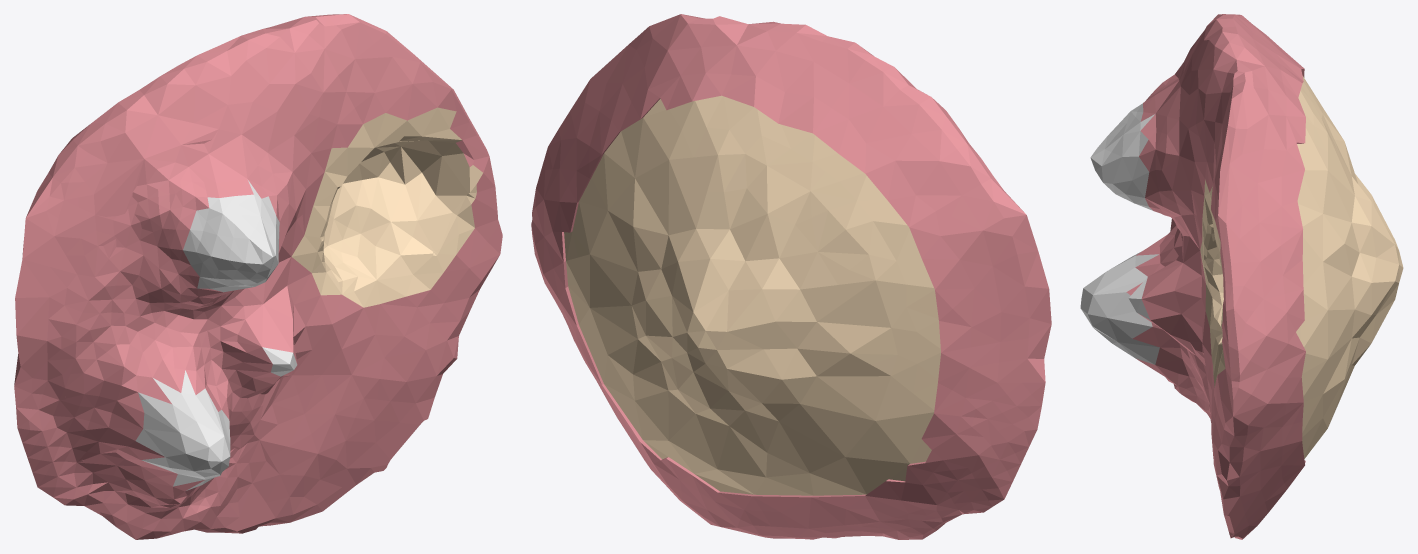
Rendered from HuiLand01(ver2).fbx.
3 views of the same model, side by side, from view 1: azimuth 30°, elevation 25°; view 2: azimuth 150°, elevation 25°; view 3: azimuth 270°, elevation 25° (orthographic). The views are drawn at different scales.
Parts seen in each view (by area): view 1: Icosphere, Icosphere.001; view 2: Icosphere; view 3: Icosphere, Icosphere.001.
Part boxes in pixels (x1,y1,x2,y2): Icosphere: (14,14,502,539); Icosphere.001: (53,111,320,518); Icosphere: (531,14,1051,539); Icosphere: (1181,14,1403,539); Icosphere.001: (1080,52,1210,412).
Size of the model in its own units: 20.3 by 19.55 by 12.13.
